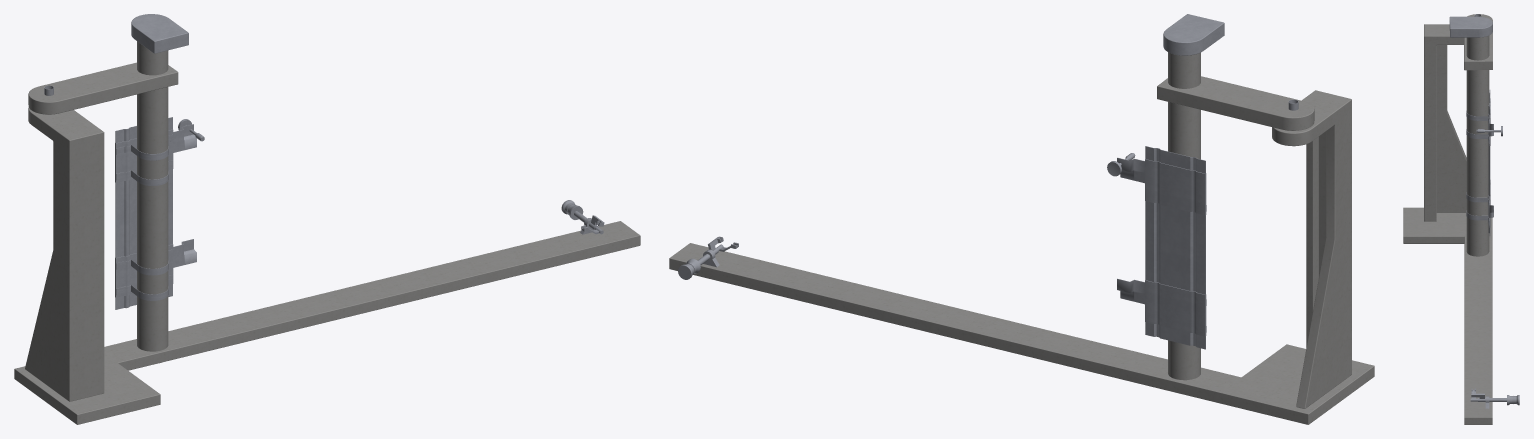
Rendered from hanger_01.fbx.
3 views of the same model, side by side, from view 1: azimuth 30°, elevation 25°; view 2: azimuth 150°, elevation 25°; view 3: azimuth 270°, elevation 25° (orthographic). The views are drawn at different scales.
Visible parts, largest first — view 1: hanger2; view 2: hanger2; view 3: hanger2.
Boxes of the visible parts, bbox=[...] form: hanger2: bbox=[14, 14, 640, 424]; hanger2: bbox=[669, 14, 1374, 424]; hanger2: bbox=[1403, 14, 1519, 424].
Size of the model in its own units: 1663 by 877 by 389.
Materials: 2 (2 with a texture image).
